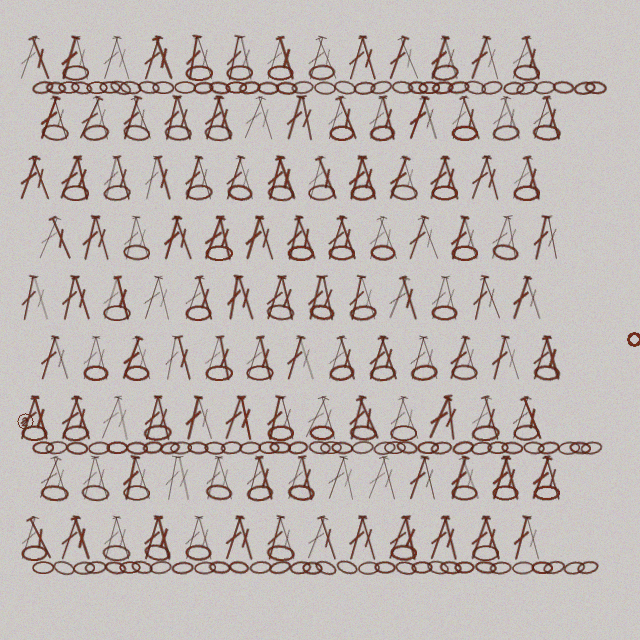chain: (491, 242, 520, 263), (143, 542, 172, 563), (122, 123, 151, 143), (266, 303, 295, 322), (431, 63, 459, 82), (41, 123, 69, 142), (82, 123, 110, 142), (226, 183, 254, 202), (390, 183, 418, 202), (308, 303, 336, 322), (328, 363, 356, 382), (410, 363, 438, 382), (205, 483, 233, 502), (287, 483, 315, 502), (204, 124, 233, 142), (471, 424, 500, 442), (40, 484, 69, 502), (81, 484, 110, 502), (102, 544, 131, 562), (266, 544, 295, 562), (164, 124, 192, 142), (492, 124, 520, 142), (103, 184, 131, 202), (267, 184, 295, 202), (349, 304, 377, 322), (369, 364, 397, 382), (533, 364, 561, 382), (62, 424, 90, 442), (349, 424, 377, 442), (246, 484, 274, 502), (108, 78, 133, 98), (313, 558, 338, 578), (532, 124, 561, 141), (143, 424, 172, 441), (369, 124, 396, 142), (308, 64, 336, 81), (185, 184, 213, 201), (513, 64, 540, 81), (308, 184, 335, 201), (123, 244, 150, 261), (451, 364, 478, 381), (513, 424, 540, 441), (185, 544, 212, 561), (390, 544, 417, 561), (335, 558, 359, 577), (185, 65, 213, 81), (205, 245, 233, 261), (103, 305, 131, 321), (205, 365, 233, 381), (246, 365, 274, 381), (350, 184, 376, 201), (370, 244, 396, 261), (62, 65, 89, 81), (226, 65, 253, 81), (267, 65, 294, 81), (515, 79, 539, 97), (451, 125, 478, 141), (62, 185, 89, 201), (431, 185, 458, 201), (513, 185, 540, 201), (287, 245, 314, 261), (328, 245, 355, 261), (451, 245, 478, 261), (185, 305, 212, 321), (431, 305, 458, 321), (21, 425, 48, 441), (267, 425, 294, 441), (390, 425, 417, 441), (123, 485, 150, 501), (451, 485, 478, 501), (492, 485, 519, 501), (533, 485, 560, 501), (21, 545, 48, 561), (472, 545, 499, 561), (52, 559, 76, 577), (329, 125, 355, 141), (83, 365, 109, 381), (124, 365, 150, 381), (309, 425, 335, 441), (31, 79, 55, 96), (333, 79, 357, 96), (369, 79, 393, 96), (463, 79, 487, 96), (480, 79, 504, 96), (395, 439, 419, 456), (451, 439, 475, 456), (130, 559, 154, 576), (268, 559, 292, 576), (426, 559, 450, 576), (542, 559, 566, 576), (576, 559, 600, 576), (394, 560, 418, 576), (70, 80, 93, 96), (208, 80, 231, 96), (573, 80, 596, 96), (373, 440, 396, 456), (430, 440, 453, 456), (470, 440, 493, 456), (537, 440, 560, 456), (580, 440, 603, 456), (104, 560, 127, 576), (563, 560, 586, 576), (159, 440, 181, 456), (119, 80, 142, 95), (137, 80, 160, 95), (238, 80, 261, 95), (291, 80, 314, 95), (391, 80, 414, 95), (431, 80, 454, 95), (447, 80, 470, 95), (533, 80, 556, 95), (552, 80, 575, 95), (584, 80, 607, 95), (45, 440, 68, 455), (220, 440, 243, 455), (308, 440, 331, 455), (351, 440, 374, 455), (84, 560, 107, 575), (149, 560, 172, 575), (208, 560, 231, 575), (249, 560, 272, 575), (289, 560, 312, 575), (439, 560, 462, 575), (474, 560, 497, 575), (407, 80, 429, 95), (142, 440, 164, 455), (287, 440, 309, 455), (228, 560, 250, 575), (275, 81, 298, 95), (353, 81, 376, 95), (171, 561, 194, 575), (489, 561, 512, 575), (45, 81, 67, 95), (257, 81, 279, 95), (314, 81, 336, 95), (503, 81, 525, 95), (66, 441, 88, 455), (88, 441, 110, 455), (126, 441, 148, 455), (170, 441, 192, 455), (187, 441, 209, 455), (204, 441, 226, 455), (239, 441, 261, 455), (331, 441, 353, 455), (501, 441, 523, 455), (523, 441, 545, 455), (558, 441, 580, 455), (569, 441, 591, 455), (73, 561, 95, 575), (194, 561, 216, 575), (358, 561, 380, 575), (512, 561, 534, 575), (193, 81, 214, 95), (302, 561, 323, 575), (58, 81, 80, 94), (86, 81, 108, 94), (99, 81, 121, 94), (152, 81, 174, 94), (174, 81, 196, 94), (225, 81, 247, 94), (418, 81, 440, 94), (32, 441, 54, 454), (106, 441, 128, 454), (258, 441, 280, 454), (269, 441, 291, 454), (320, 441, 342, 454), (384, 441, 406, 454), (417, 441, 439, 454), (487, 441, 509, 454), (32, 561, 54, 574), (119, 561, 141, 574), (374, 561, 396, 574), (411, 561, 433, 574), (531, 561, 553, 574), (454, 561, 475, 574)
double: (23, 514, 58, 562), (73, 94, 106, 142), (299, 394, 332, 441), (45, 214, 77, 262), (382, 274, 414, 322), (353, 394, 385, 442), (423, 394, 455, 442), (33, 454, 65, 502), (25, 34, 56, 82), (312, 34, 343, 82), (394, 34, 425, 82), (127, 94, 158, 142), (238, 94, 269, 142), (332, 94, 363, 142), (25, 154, 56, 202), (54, 154, 85, 202), (312, 154, 343, 202), (33, 214, 64, 262), (291, 214, 322, 262), (373, 214, 404, 262), (414, 214, 445, 262), (476, 274, 507, 322), (95, 394, 126, 442), (517, 394, 548, 442), (455, 454, 486, 502), (149, 34, 179, 82), (34, 94, 64, 142), (403, 94, 433, 142), (456, 94, 486, 142), (497, 94, 527, 142), (272, 154, 302, 202), (383, 154, 413, 202), (465, 154, 495, 202), (506, 154, 536, 202), (198, 214, 228, 262), (178, 274, 208, 322), (116, 334, 146, 382), (374, 334, 404, 382), (55, 394, 85, 442), (395, 394, 425, 442), (465, 394, 495, 442), (321, 454, 351, 502), (362, 454, 392, 502), (301, 514, 331, 562), (383, 514, 413, 562), (14, 34, 43, 82), (383, 34, 412, 82), (465, 34, 494, 82), (506, 34, 535, 82), (14, 154, 43, 202), (354, 154, 383, 202), (424, 154, 453, 202), (169, 214, 198, 262), (333, 214, 362, 262), (403, 214, 432, 262), (485, 214, 514, 262), (137, 274, 166, 322), (260, 274, 289, 322), (292, 334, 321, 382), (333, 334, 362, 382), (444, 334, 473, 382), (14, 394, 43, 442), (219, 394, 248, 442), (506, 394, 535, 442), (128, 454, 157, 502), (403, 454, 432, 502), (526, 454, 555, 502), (55, 514, 84, 562), (219, 514, 248, 562), (424, 514, 453, 562), (465, 514, 494, 562), (97, 34, 125, 82), (138, 34, 166, 82), (191, 34, 219, 82), (302, 34, 330, 82), (425, 34, 453, 82), (437, 34, 465, 82), (117, 94, 145, 142), (170, 94, 198, 142), (199, 94, 227, 142), (416, 94, 444, 142), (486, 94, 514, 142), (527, 94, 555, 142), (220, 154, 248, 202), (232, 154, 260, 202), (396, 154, 424, 202), (437, 154, 465, 202), (252, 214, 280, 262), (322, 214, 350, 262), (363, 214, 391, 262), (27, 274, 55, 322), (68, 274, 96, 322), (97, 274, 125, 322), (191, 274, 219, 322), (232, 274, 260, 322), (507, 274, 535, 322), (519, 274, 547, 322), (47, 334, 75, 382), (129, 334, 157, 382), (240, 334, 268, 382), (322, 334, 350, 382), (363, 334, 391, 382), (416, 334, 444, 382), (498, 334, 526, 382), (527, 334, 555, 382), (68, 394, 96, 442), (191, 394, 219, 442), (314, 394, 342, 442), (211, 454, 239, 502), (281, 454, 309, 502), (445, 454, 473, 502), (486, 454, 514, 502), (68, 514, 96, 562), (138, 514, 166, 562), (273, 514, 301, 562), (314, 514, 342, 562), (478, 514, 506, 562), (56, 34, 83, 82), (109, 34, 136, 82), (261, 34, 288, 82), (273, 34, 300, 82), (343, 34, 370, 82), (355, 34, 382, 82), (478, 34, 505, 82), (519, 34, 546, 82), (47, 94, 74, 142), (211, 94, 238, 142), (252, 94, 279, 142), (281, 94, 308, 142), (322, 94, 349, 142), (363, 94, 390, 142), (539, 94, 566, 142), (179, 154, 206, 202), (191, 154, 218, 202), (343, 154, 370, 202), (129, 214, 156, 262), (158, 214, 185, 262), (240, 214, 267, 262), (445, 214, 472, 262), (457, 214, 484, 262), (355, 274, 382, 322), (396, 274, 423, 322), (425, 274, 452, 322), (35, 334, 62, 382), (199, 334, 226, 382), (281, 334, 308, 382), (404, 334, 431, 382), (457, 334, 484, 382), (486, 334, 513, 382), (539, 334, 566, 382), (27, 394, 54, 442), (384, 394, 411, 442), (478, 394, 505, 442), (47, 454, 74, 502), (88, 454, 115, 502), (252, 454, 279, 502), (375, 454, 402, 502), (498, 454, 525, 502), (539, 454, 566, 502), (15, 514, 42, 562), (109, 514, 136, 562), (179, 514, 206, 562), (232, 514, 259, 562), (343, 514, 370, 562), (355, 514, 382, 562), (69, 34, 95, 82), (89, 94, 115, 142), (446, 94, 472, 142), (98, 154, 124, 202), (110, 154, 136, 202), (151, 154, 177, 202), (262, 154, 288, 202), (303, 154, 329, 202), (479, 154, 505, 202), (520, 154, 546, 202), (77, 214, 103, 262), (89, 214, 115, 262), (274, 274, 300, 322), (77, 334, 103, 382), (171, 334, 197, 382), (139, 394, 165, 442), (180, 394, 206, 442), (274, 394, 300, 442), (344, 394, 370, 442), (200, 454, 226, 502), (241, 454, 267, 502), (98, 514, 124, 562), (151, 514, 177, 562), (192, 514, 218, 562), (262, 514, 288, 562), (508, 514, 534, 562), (520, 514, 546, 562), (159, 94, 184, 142), (376, 94, 401, 142), (139, 154, 164, 202), (282, 214, 307, 262), (57, 274, 82, 322), (110, 274, 135, 322), (151, 274, 176, 322), (303, 274, 328, 322), (344, 274, 369, 322), (438, 274, 463, 322), (89, 334, 114, 382), (253, 334, 278, 382), (110, 394, 135, 442), (151, 394, 176, 442), (262, 394, 287, 442), (77, 454, 102, 502), (118, 454, 143, 502), (417, 454, 442, 502), (438, 514, 463, 562), (222, 34, 246, 82), (234, 34, 258, 82), (295, 94, 319, 142), (70, 154, 94, 202), (119, 214, 143, 262), (213, 214, 237, 262), (529, 214, 553, 262), (316, 274, 340, 322), (468, 274, 492, 322), (234, 394, 258, 442), (160, 454, 184, 502), (172, 454, 196, 502), (295, 454, 319, 502), (336, 454, 360, 502), (398, 514, 422, 562), (17, 274, 40, 322), (160, 334, 183, 382), (213, 334, 236, 382), (541, 214, 564, 261), (182, 34, 204, 81), (501, 214, 523, 261), (223, 274, 245, 321), (441, 394, 461, 441)
noise: (15, 411, 36, 432), (625, 330, 640, 348)
